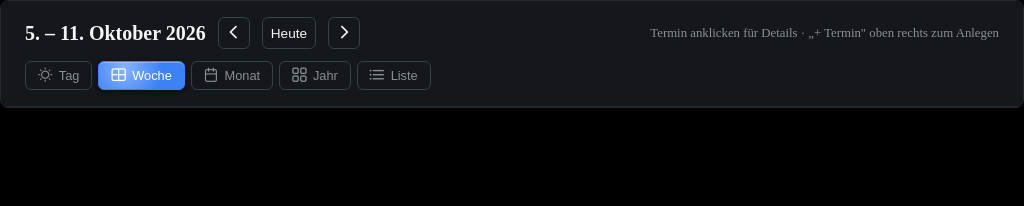
Test: AppCalendar › switches to the list view without unmounting the vue-cal grid
The width and height of the screenshot is (1024, 206).
Click the button with class "calendar-toolbar__view-button" showing "Liste".
click(394, 76)  # box [357,61,431,90]
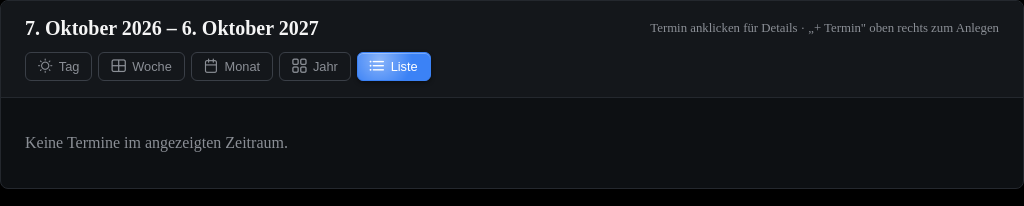
Expected: the element showing "Keine Termine im angezeigten Zeitraum." is shown, [25,134,288,151]
